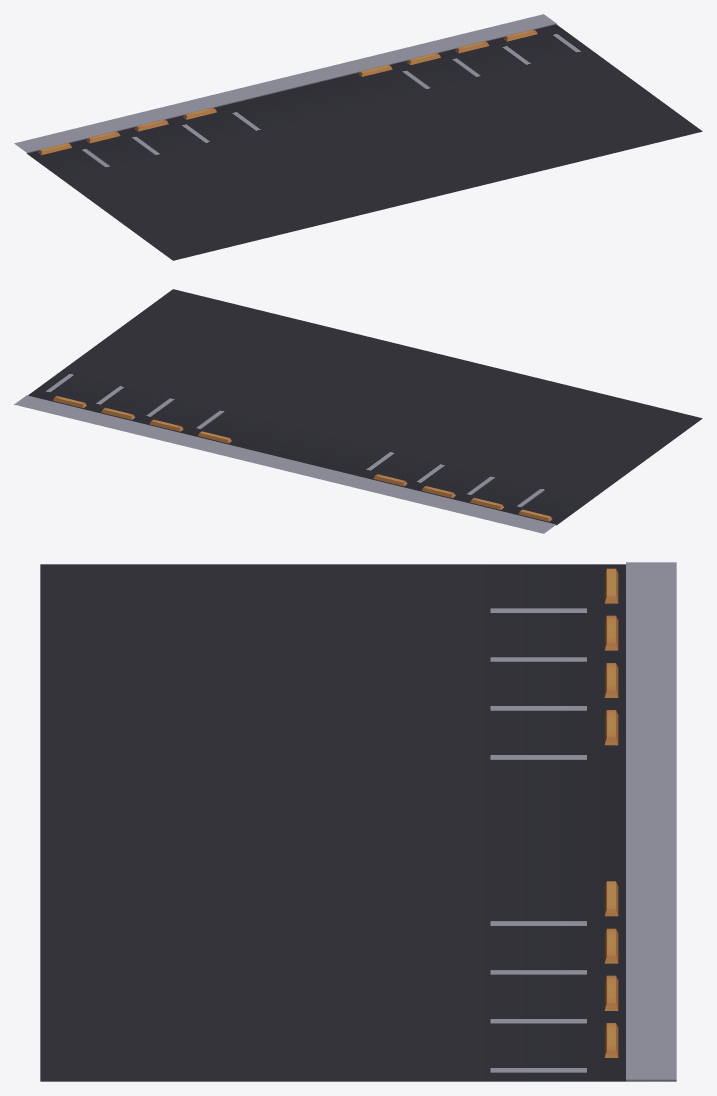
File: Parking lot.fbx
3 views of the same model, one above another, from view 1: azimuth 30°, elevation 25°; view 2: azimuth 150°, elevation 25°; view 3: azimuth 270°, elevation 25° (orthographic). The views are drawn at different scales.
Parts seen in each view (by area): view 1: Parking lot; view 2: Parking lot; view 3: Parking lot.
Boxes of the visible parts, x1,y1,x2,y2 form: Parking lot: (14, 14, 702, 260); Parking lot: (14, 289, 702, 533); Parking lot: (40, 562, 676, 1081).
Bounding box in the file's own units: 142 × 0.8018 × 74.11.
Materials: 1 (1 with a texture image).
